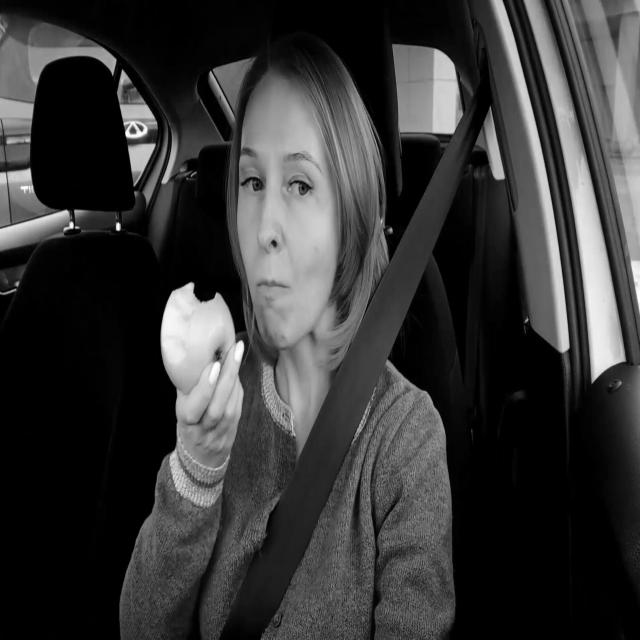Eating: (159, 276, 238, 398)
Seatbelt: (220, 75, 490, 640)
